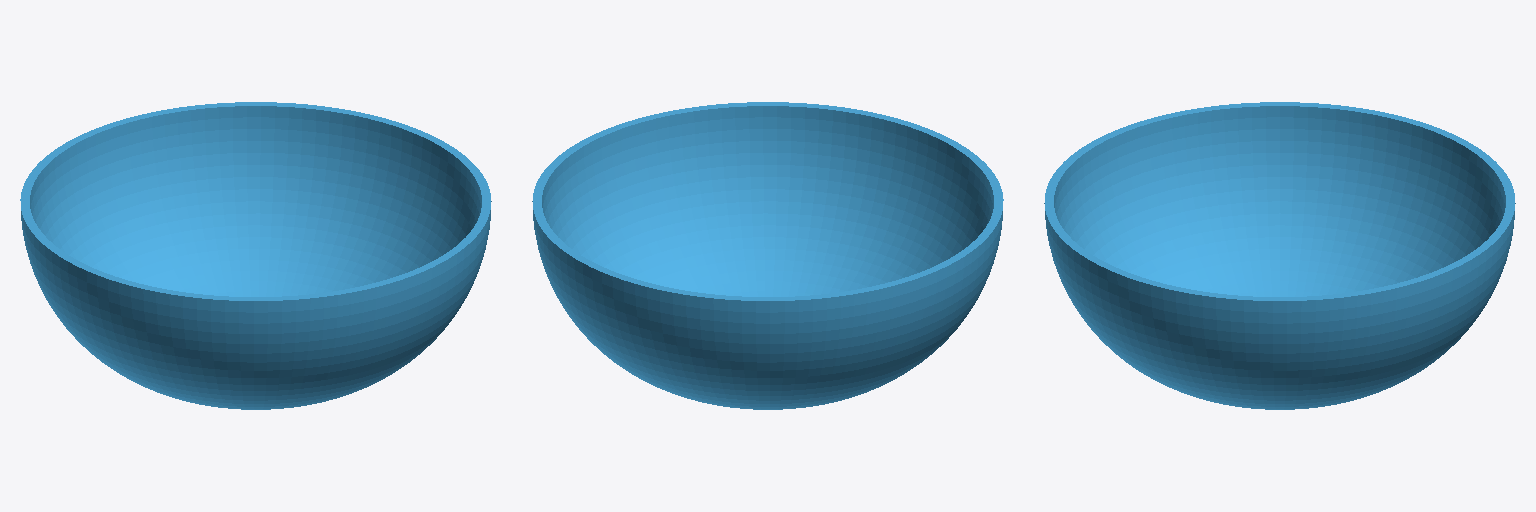
robot.urdf — marking_final:
<?xml version="1.0"?>
<robot name="marking_final">
  <link name="world"/>

  <link name="marking_final_link">
    <inertial>
      <mass value="1.0"/> <origin xyz="0 0 0"/>
      <inertia ixx="0.01" ixy="0" ixz="0" iyy="0.01" iyz="0" izz="0.01"/>
    </inertial>
    
    <visual>
      <geometry>
        <mesh filename="package://so101_description/meshes/bowl.stl" scale="0.001 0.001 0.001"/>
      </geometry>
    </visual>

    <collision>
      <geometry>
        <mesh filename="package://so101_description/meshes/bowl.stl" scale="0.001 0.001 0.001"/>
      </geometry>
    </collision>
  </link>

  <joint name="world_to_marking_final" type="fixed">
    <parent link="world"/>
    <child link="marking_final_link"/>
  </joint>

  <gazebo reference="marking_final_link">
    <static>true</static> <material>Gazebo/Grey</material>
  </gazebo>
  
</robot>

--- Facts derived from the render (not from the file) ---
3 views of the same robot in one strip: view 1: azimuth 30°, elevation 25°; view 2: azimuth 150°, elevation 25°; view 3: azimuth 270°, elevation 25° (orthographic).
Robot: marking_final — 2 links, 1 joints (1 fixed); root link world; default pose: every joint at zero.
Visible links, largest first — view 1: marking_final_link; view 2: marking_final_link; view 3: marking_final_link.
Link boxes in pixels (x1=…): marking_final_link: x1=20, y1=102, x2=491, y2=409; marking_final_link: x1=532, y1=102, x2=1003, y2=409; marking_final_link: x1=1044, y1=102, x2=1515, y2=409.
Bounding box of the posed robot: 0.1 × 0.1 × 0.04 m (x, y, z).
1 mesh visuals loaded from 1 distinct referenced files (1 binary STL).
